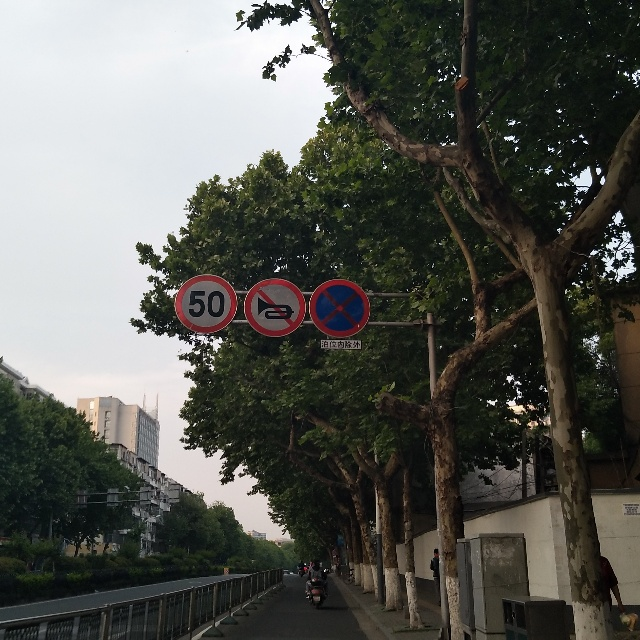nohonk: (245, 278, 304, 337)
stop: (308, 276, 373, 338)
